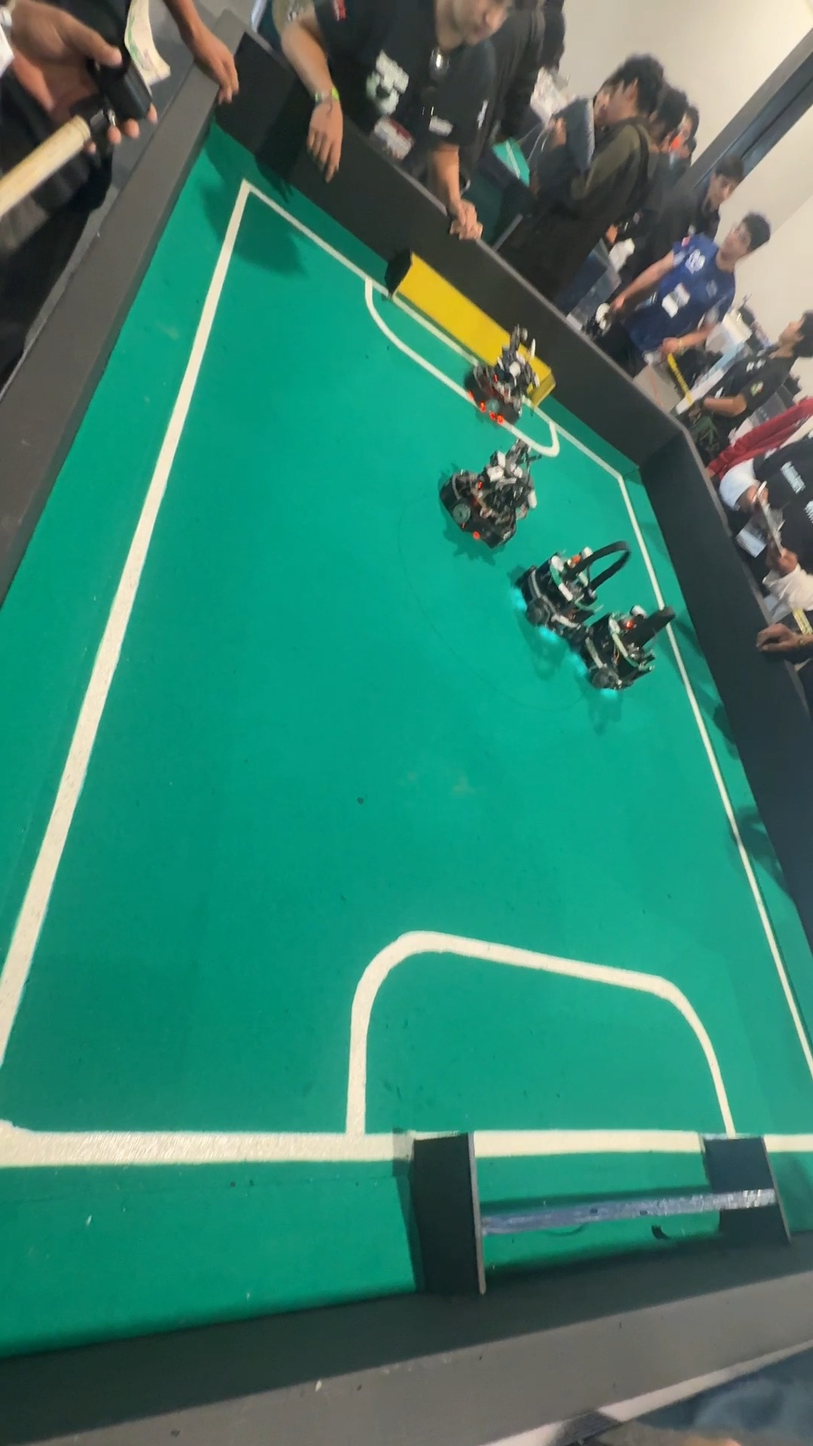Robot: (579, 577, 686, 708), (510, 524, 621, 650), (434, 435, 542, 558), (475, 319, 544, 427)
